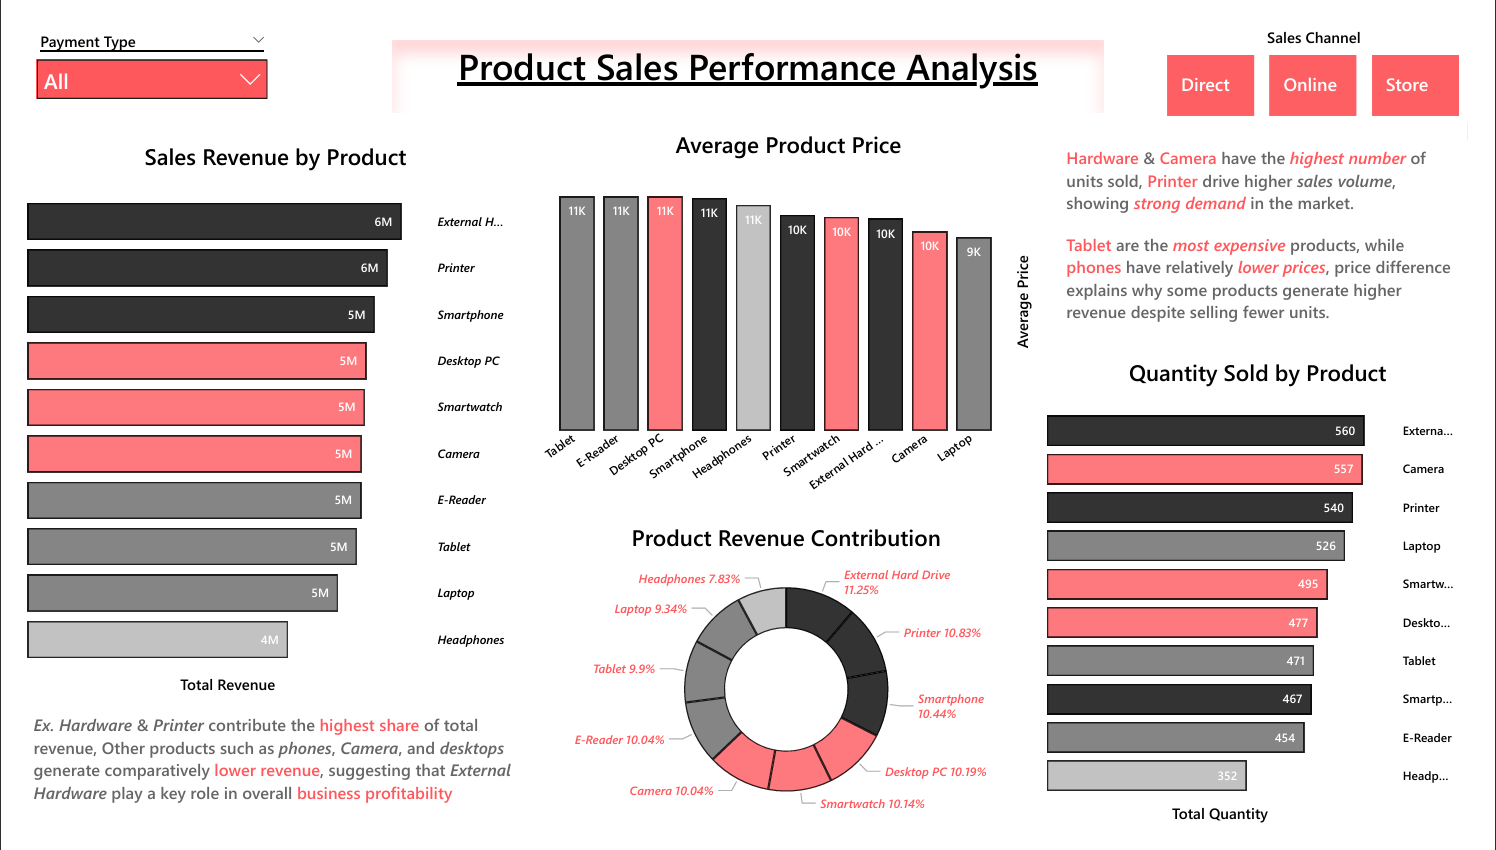

The dashboard page shown, as its layout file describes it:
{"tool":"powerbi","page":{"name":"Product Performance Analysis","canvas":[1280,720],"ordinal":1},"visuals":[{"type":"advancedSlicerVisual","fields":{"Values":["SalesData.Sales Channel"]},"box":[1006.1,0,273.9,86.1],"z":0},{"type":"clusteredColumnChart","title":"Average Product Price","fields":{"Category":["SalesData.Product"],"Y":["All Measures.Average Price"]},"box":[456.7,90,437.8,327.8],"z":0,"group":"g1"},{"type":"clusteredBarChart","title":"Quantity Sold by Product","fields":{"Category":["SalesData.Product"],"Y":["All Measures.Total Quantity"]},"box":[905.6,293.6,374.4,414.2],"z":1,"group":"g2"},{"type":"textbox","box":[917.2,101.1,362.8,181.7],"z":9,"group":"g2"},{"type":"slicer","fields":{"Values":["SalesData.Payment Type"]},"box":[0,0,221.4,75.9],"z":1000},{"type":"donutChart","title":"Product Revenue Contribution","fields":{"Category":["SalesData.Product"],"Y":["All Measures.Total Revenue"]},"box":[456.7,438.9,433.9,268.9],"z":1000,"group":"g1"},{"type":"clusteredBarChart","title":"Sales Revenue by Product","fields":{"Category":["SalesData.Product"],"Y":["All Measures.Total Revenue"]},"box":[0,101.4,440,491.4],"z":2000},{"type":"textbox","box":[0,604.6,440.4,115.7],"z":3000},{"type":"textbox","box":[324.1,12.4,631.8,63.5],"z":4000},{"type":"group","id":"g1","title":"Group 1","box":[456.7,90,437.8,617.8],"z":5000},{"type":"group","id":"g2","title":"Group 2","box":[905.6,101.1,374.4,606.7],"z":6000}]}

Visuals, with their boxes in screenshot pixels (x1, y1, x2, y2), scaled from the page's 1280x720 canvas onto the 1496x850 screenshot:
advancedSlicerVisual - SalesData.Sales Channel: x1=1176, y1=0, x2=1495, y2=102
"Average Product Price" clusteredColumnChart: x1=534, y1=106, x2=1045, y2=493
"Quantity Sold by Product" clusteredBarChart: x1=1058, y1=347, x2=1495, y2=836
textbox: x1=1072, y1=119, x2=1495, y2=334
slicer - SalesData.Payment Type: x1=0, y1=0, x2=259, y2=90
"Product Revenue Contribution" donutChart: x1=534, y1=518, x2=1041, y2=836
"Sales Revenue by Product" clusteredBarChart: x1=0, y1=120, x2=514, y2=700
textbox: x1=0, y1=714, x2=515, y2=849
textbox: x1=379, y1=15, x2=1117, y2=90
"Group 1" group: x1=534, y1=106, x2=1045, y2=836
"Group 2" group: x1=1058, y1=119, x2=1495, y2=836
